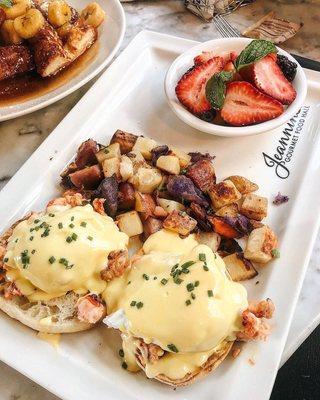sushi: (164, 37, 308, 137)
